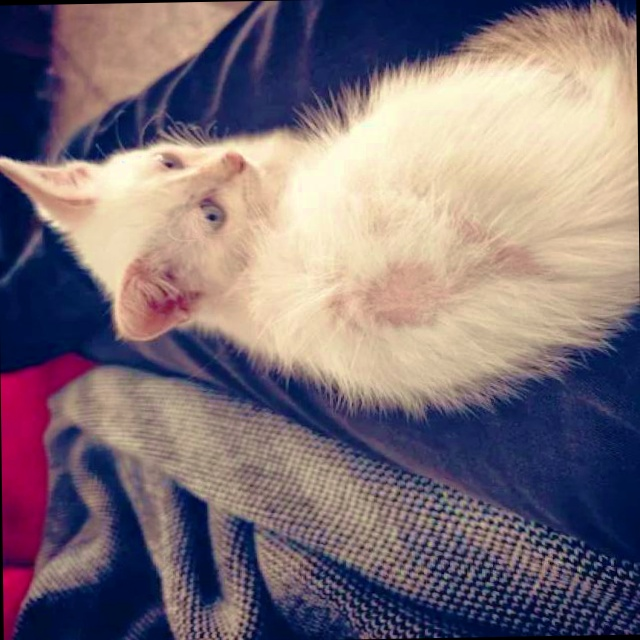hairloss: (354, 233, 537, 321)
